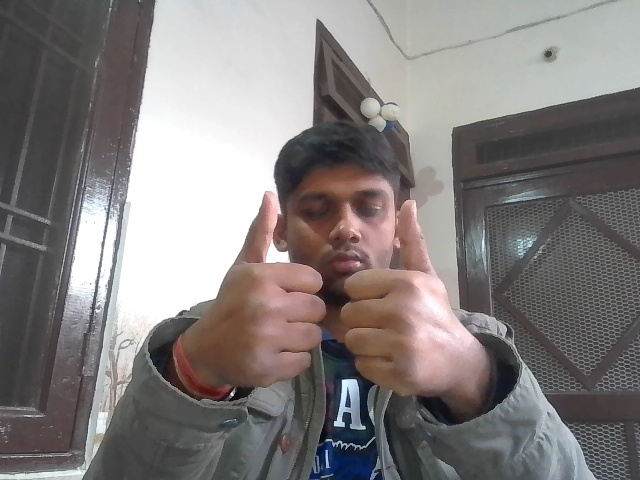Excellent: (199, 189, 465, 410)
